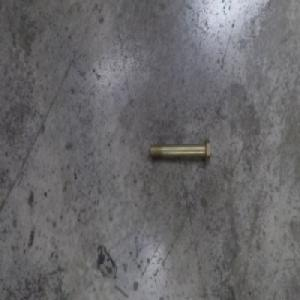Bolt: (148, 135, 212, 163)
